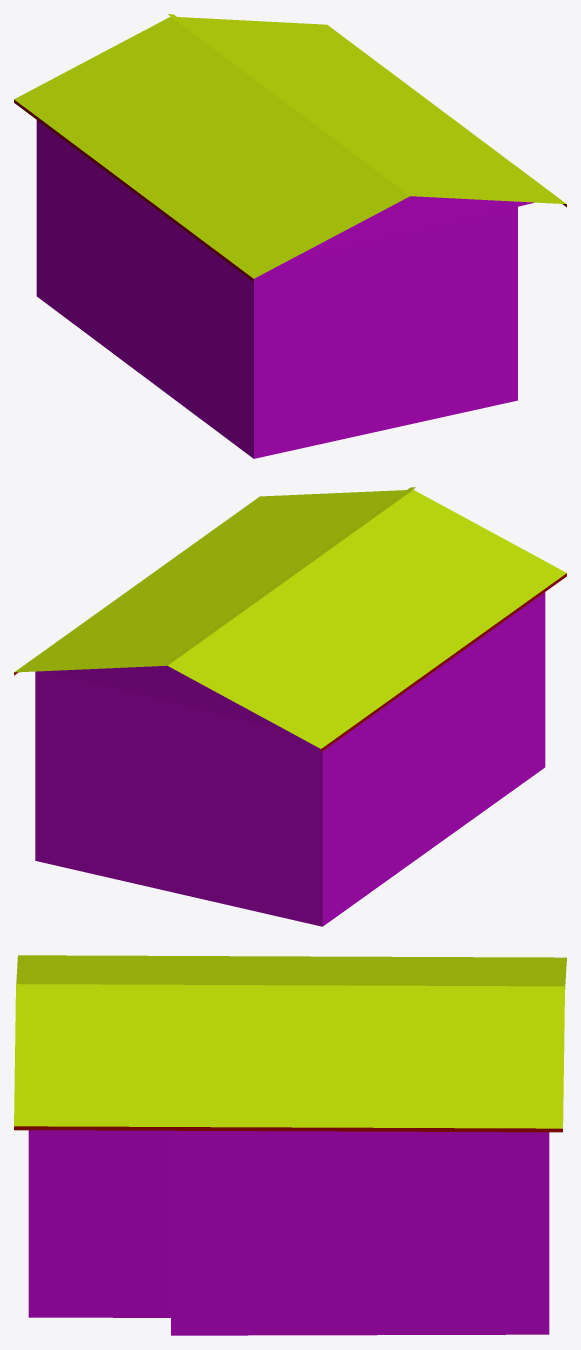
The model's file is sjs_101.glb.
The picture shows the model from 3 angles, top to bottom: view 1: azimuth 30°, elevation 25°; view 2: azimuth 150°, elevation 25°; view 3: azimuth 270°, elevation 25°; orthographic projection. The views are drawn at different scales.
Parts seen in each view (by area): view 1: sjs_101; view 2: sjs_101; view 3: sjs_101.
Part boxes in pixels (x1,y1,x2,y2): sjs_101: [14, 14, 566, 458]; sjs_101: [14, 487, 566, 926]; sjs_101: [14, 955, 566, 1335].
Bounding box in the file's own units: 11.72 × 8.5 × 15.8.
